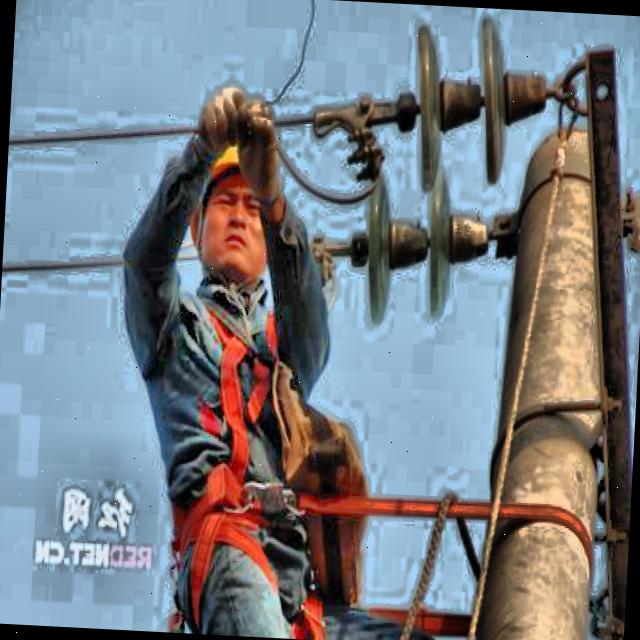helmet: (187, 130, 276, 291)
